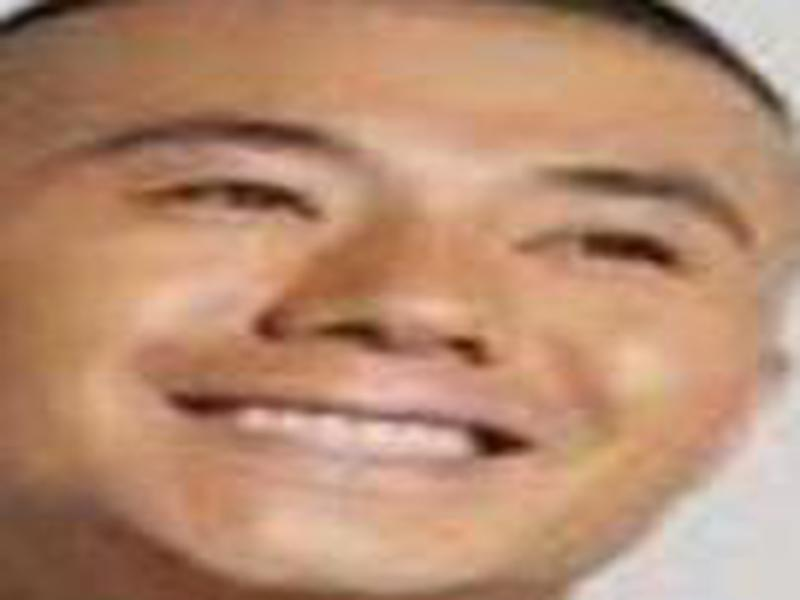without_mask: (1, 8, 780, 600)
